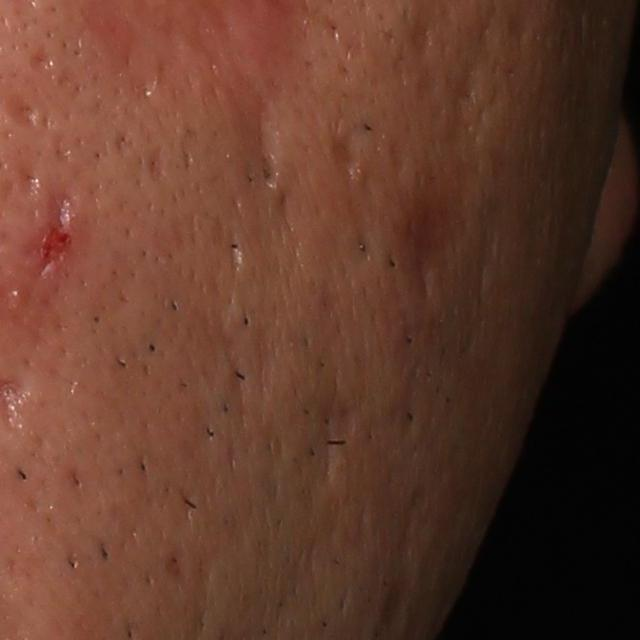atrophic_scar: (397, 167, 465, 298), (233, 98, 283, 209), (458, 13, 497, 120), (315, 393, 356, 486), (322, 126, 375, 181), (35, 194, 74, 263), (3, 99, 44, 135), (407, 10, 435, 55), (226, 230, 248, 279)
